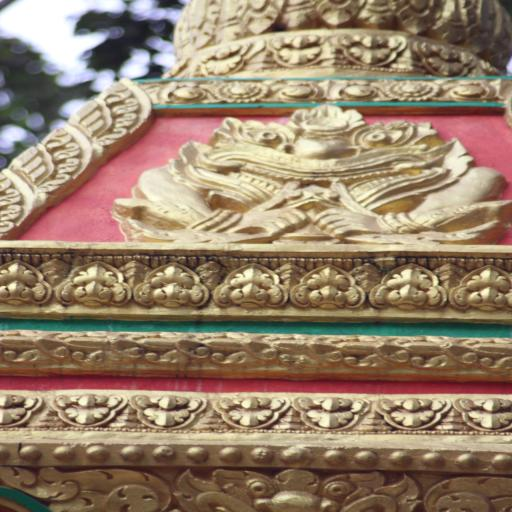hoa: (384, 80, 440, 102), (217, 82, 268, 102)
la: (6, 466, 169, 512), (368, 262, 444, 312), (214, 329, 308, 369), (131, 261, 210, 307), (45, 328, 138, 367), (419, 473, 512, 512), (287, 260, 362, 308), (53, 258, 127, 306), (308, 334, 400, 372), (214, 259, 283, 309), (446, 262, 512, 311), (128, 392, 208, 430), (52, 392, 134, 429), (295, 392, 374, 430), (214, 393, 294, 430), (136, 333, 214, 369), (334, 28, 402, 69), (372, 396, 453, 430), (0, 258, 50, 308), (414, 38, 478, 76), (449, 334, 512, 372), (270, 82, 383, 103), (397, 335, 464, 370), (179, 0, 221, 49), (455, 394, 512, 430), (266, 34, 326, 68), (195, 43, 251, 76), (459, 0, 504, 41), (0, 332, 53, 366), (0, 389, 50, 425), (149, 80, 223, 103), (236, 0, 278, 38), (439, 80, 503, 101), (393, 0, 432, 32), (315, 0, 353, 26)
than: (130, 110, 512, 242)
